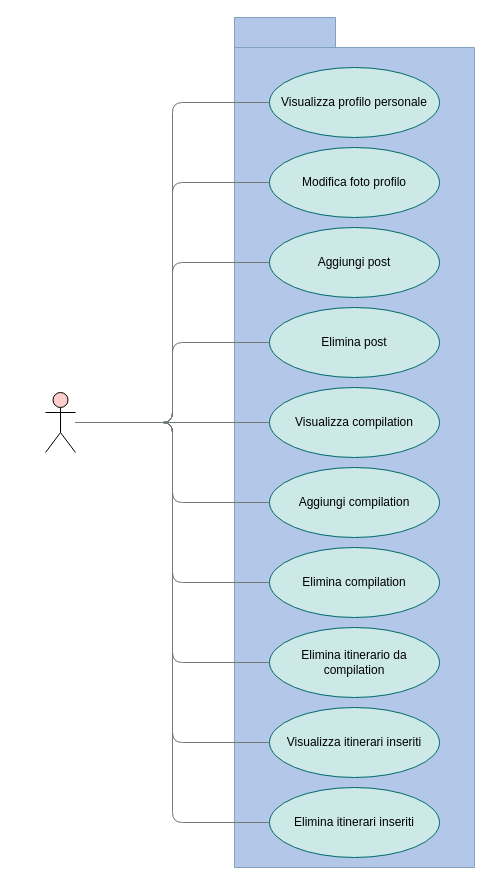
Some shapes in this 492 by 885 pixel diagram are drawn without their labels. Here are the shapes that lost their labels. From the top down, the box of each, then its label:
(44, 392, 76, 452): Utente registrato
(234, 16, 474, 868): Gestione profilo
